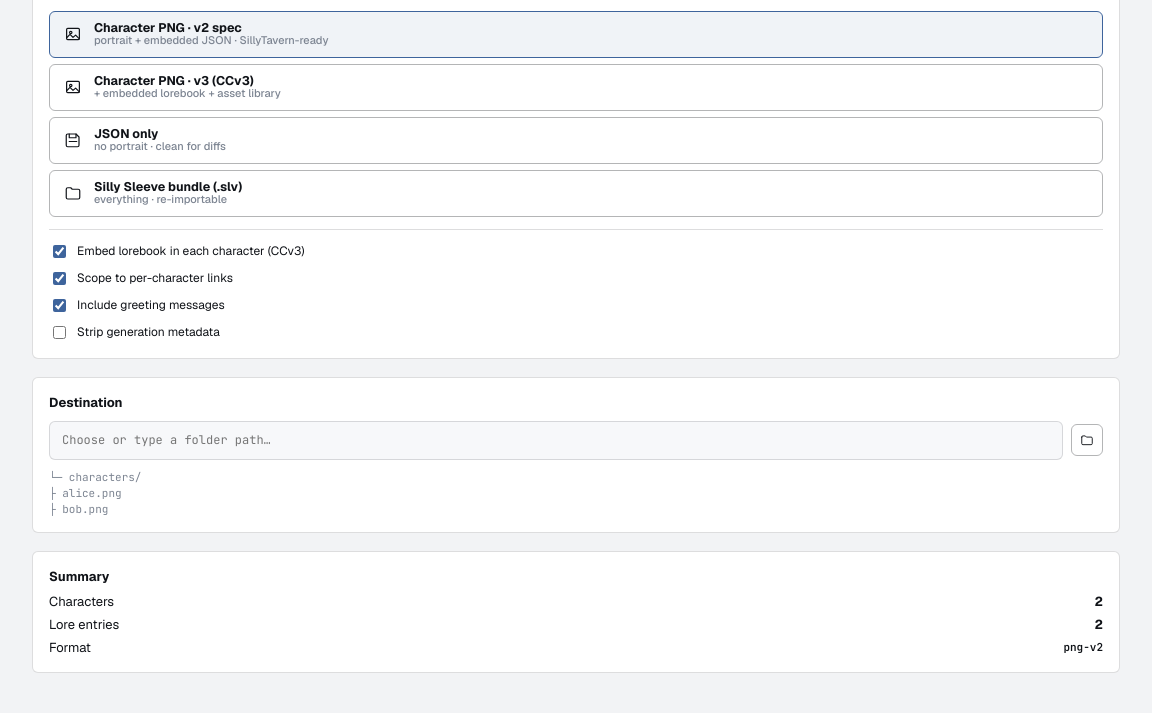
ExportScreen › warns when some exports fail
(page scrolled)
Type "/out" into the field with placeholder "Choose or type a folder path…" at (556, 440), box [49, 421, 1063, 460]
(page scrolled)
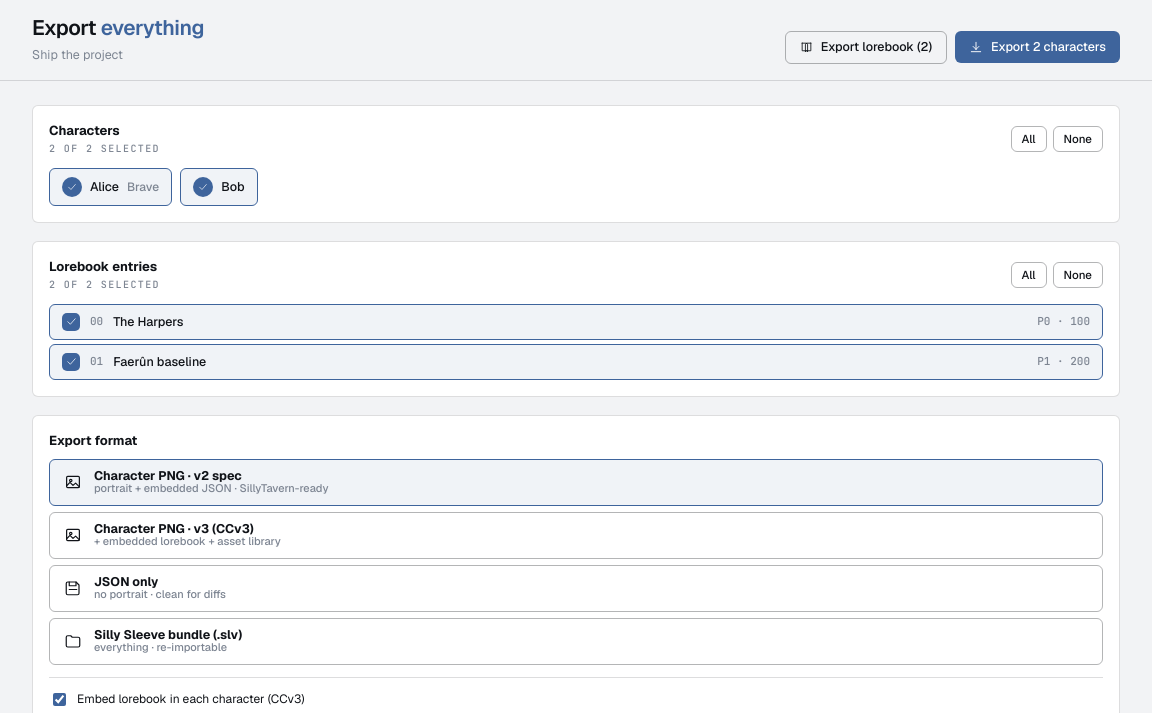
Click the button "Export 2 characters" at (1038, 47), box [955, 31, 1120, 63]
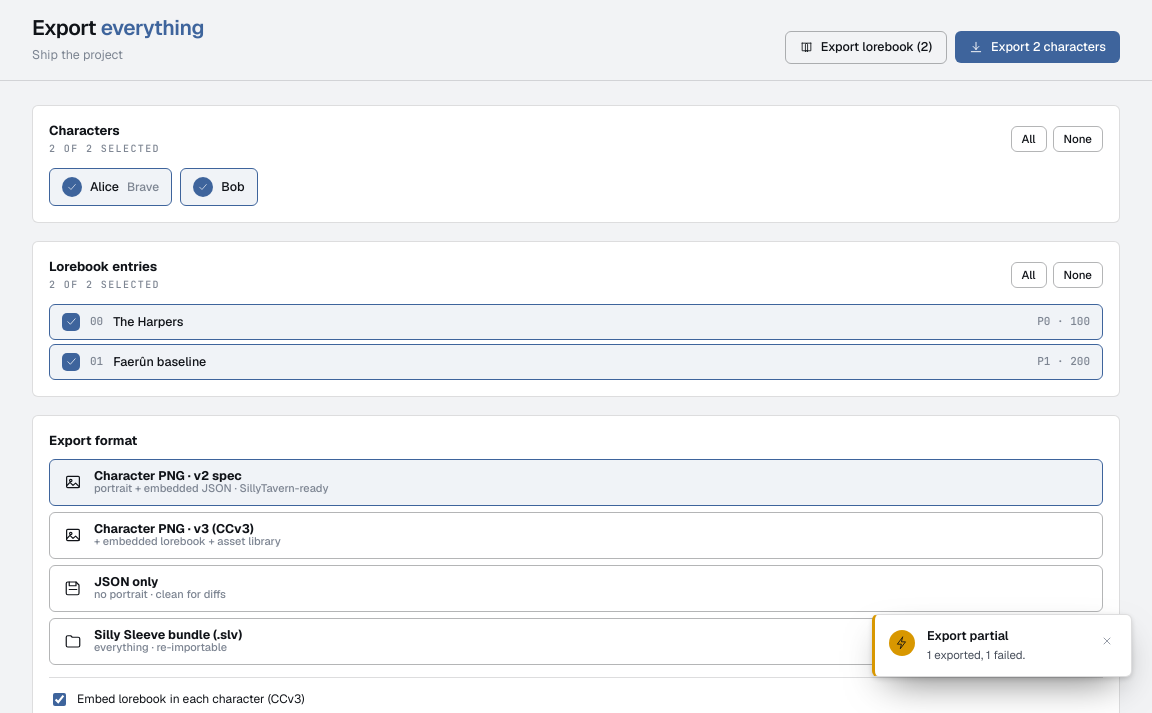
expect the text "Export partial" is shown: met, box [927, 627, 1008, 644]
